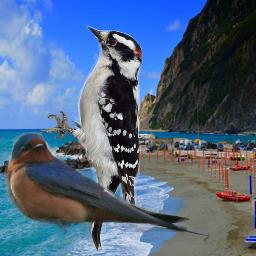Swallow: (4, 132, 210, 238)
Woodpecker: (38, 23, 145, 252)
